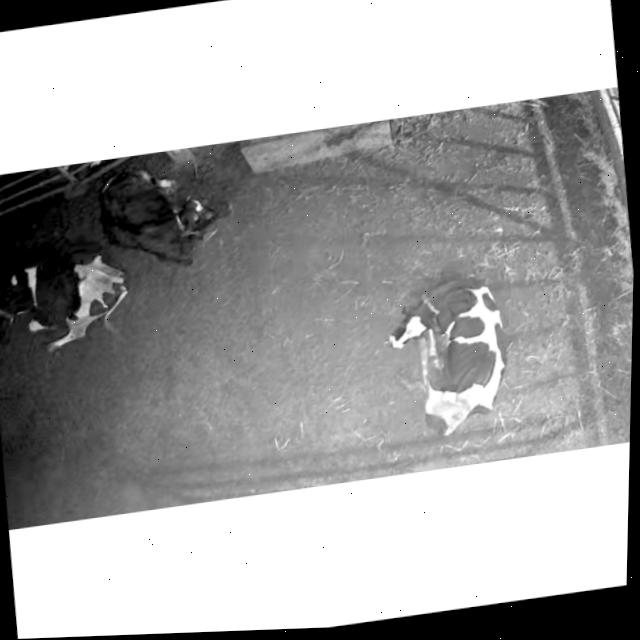lay: (364, 252, 546, 448), (89, 149, 250, 275), (0, 246, 131, 344)
